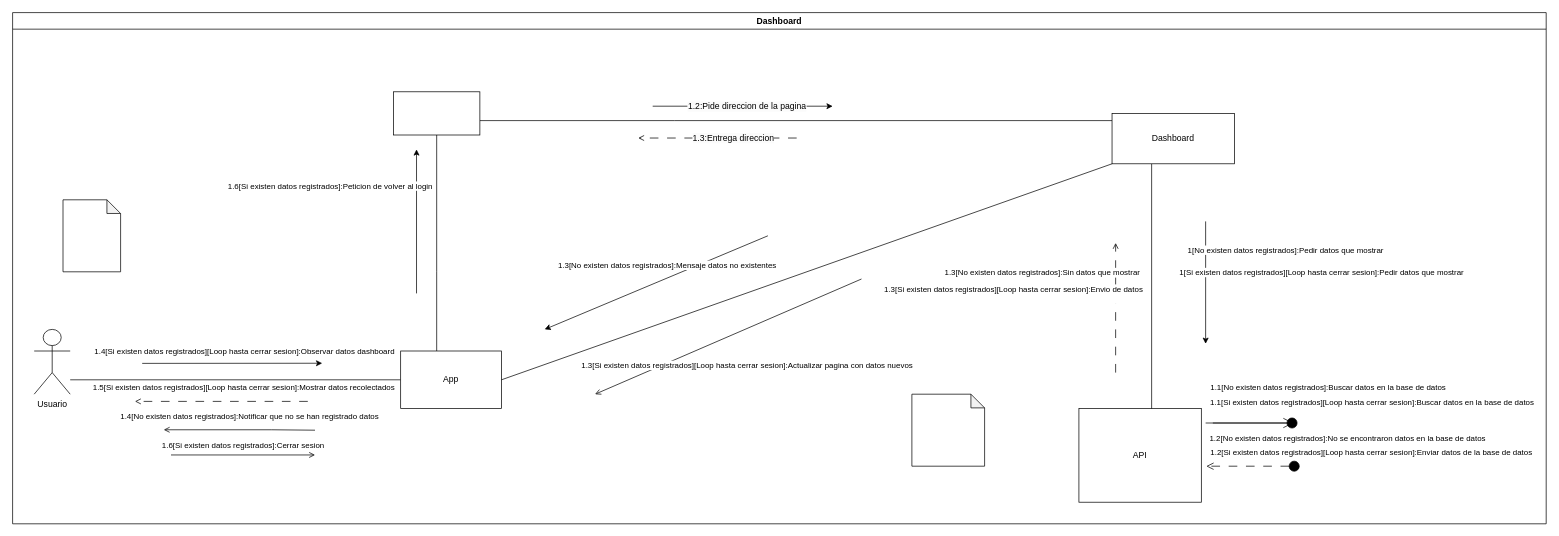
The diagram is 1559 pixels wide and 536 high, and some of its shapes have lost their labels. Each missing label, with the centre of its shape:
"BaseRouter" goes at point (436, 113).
"Los datos constantemente se actualizan" goes at point (948, 429).
"Usuario ya inicio sesion" goes at point (91, 235).
